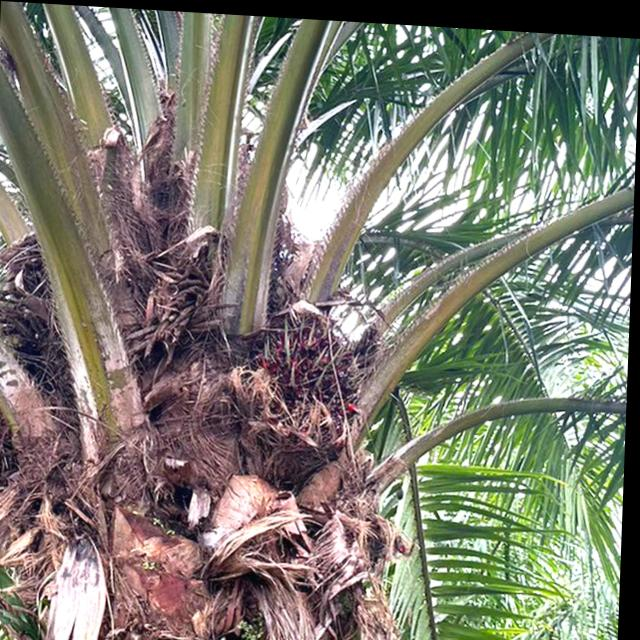ripe: (247, 301, 378, 422)
